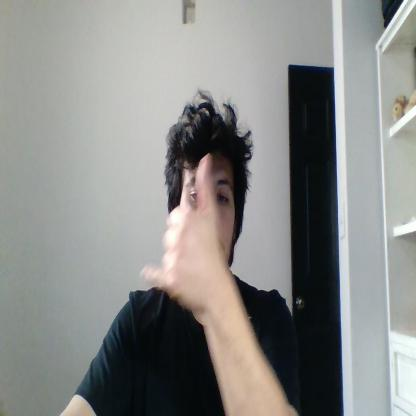Y: (140, 152, 226, 320)
